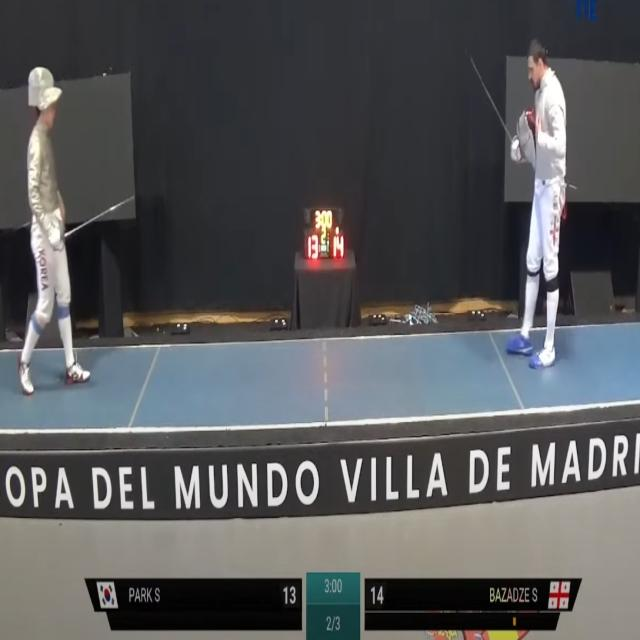fencer: (10, 63, 91, 406), (520, 38, 574, 411)
overlayLeft: (85, 578, 266, 613)
overlayRight: (400, 580, 584, 613)
scoreLeft: (270, 580, 302, 611)
scoreRight: (366, 579, 396, 609)
